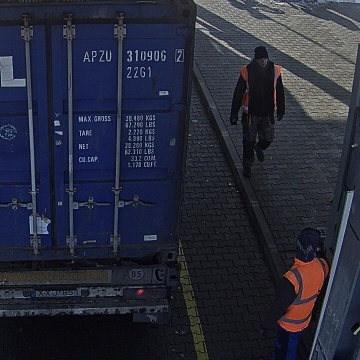serial_id: (83, 50, 182, 61)
